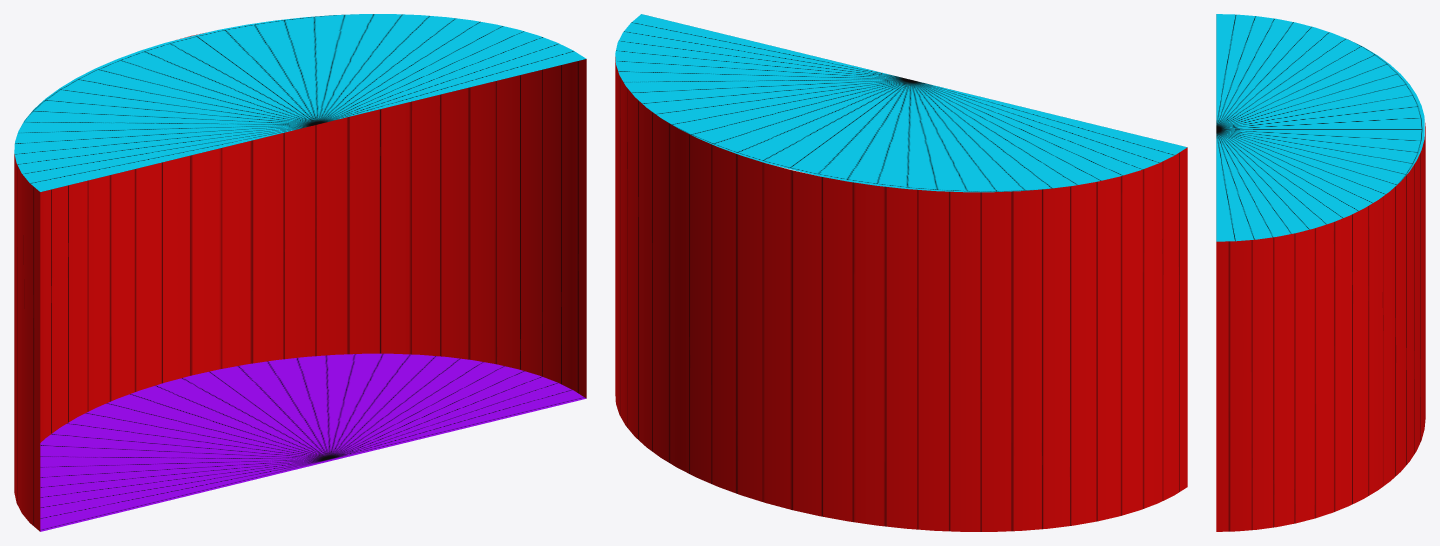
File: Arch.fbx
3 renders of one model, left to right at view 1: azimuth 30°, elevation 25°; view 2: azimuth 150°, elevation 25°; view 3: azimuth 270°, elevation 25°, orthographic. The views are drawn at different scales.
Parts seen in each view (by area): view 1: Cylinder.1; view 2: Cylinder.1; view 3: Cylinder.1.
Part boxes in pixels (bbox=[...]): Cylinder.1: bbox=[14, 14, 586, 531]; Cylinder.1: bbox=[615, 14, 1187, 531]; Cylinder.1: bbox=[1216, 14, 1425, 531].
Size of the model in its own units: 129 by 76.52 by 50.
